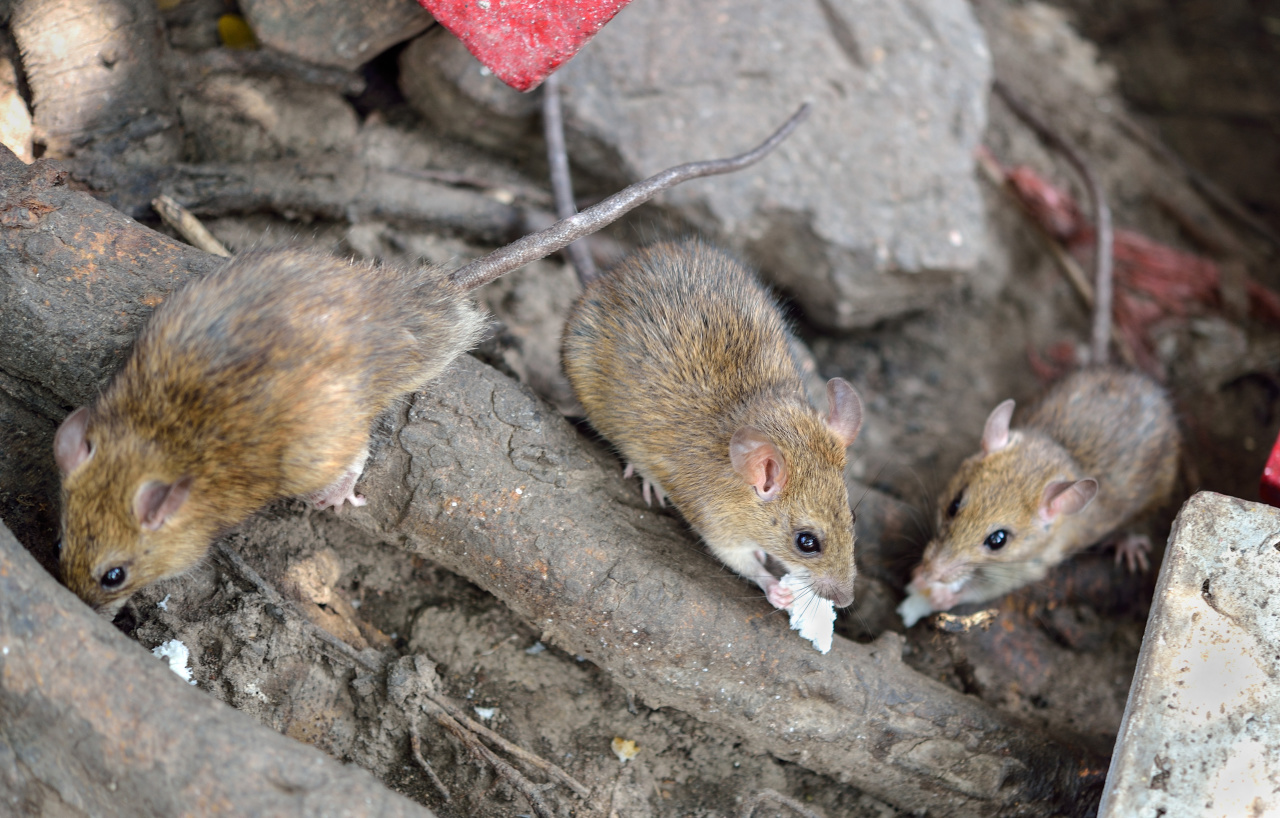rat: (15, 201, 524, 640), (545, 210, 899, 646), (885, 322, 1215, 669)
